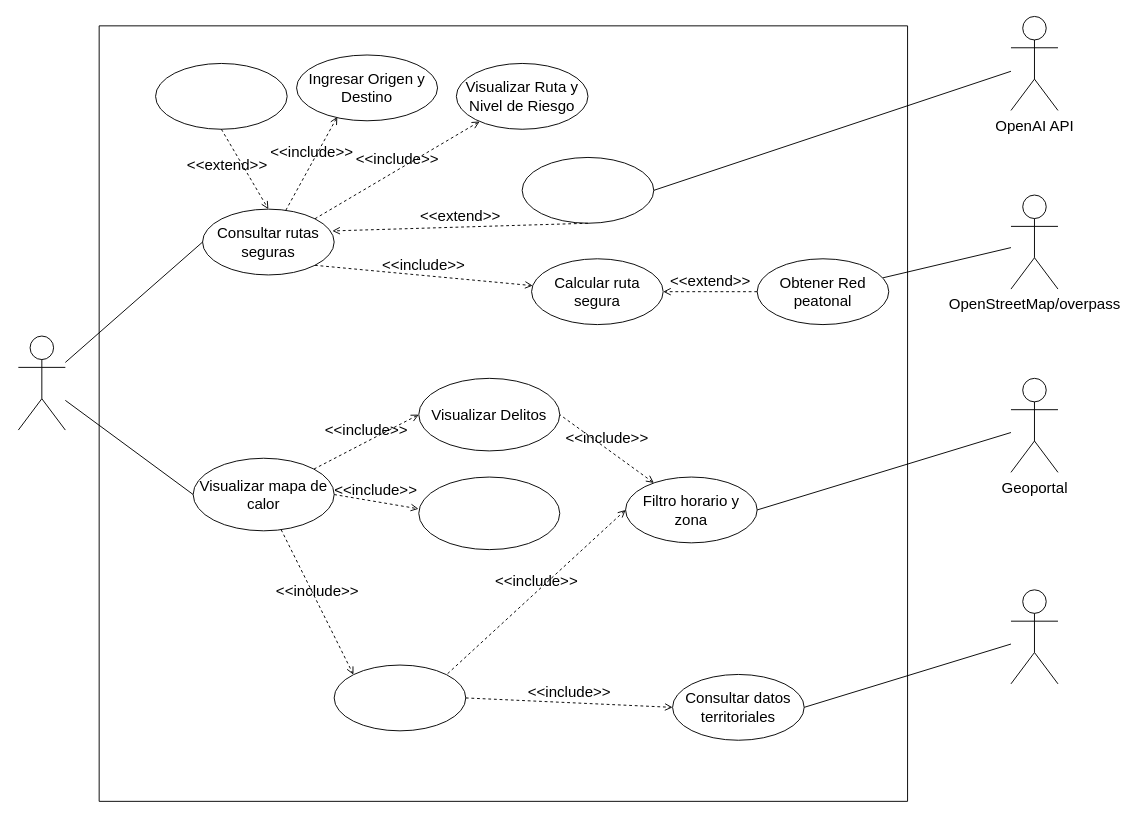
Some shapes in this 1136 by 818 pixel diagram are drawn without their labels. Each missing label, with the centre of its shape:
Compartir ubicacion: pixel 221 96
Interpretacion Rutas: pixel 587 190
SIED Territorial: pixel 1034 636
Usuario: pixel 41 382
Visualizar red peatonal: pixel 489 513
Visualizar zonas de riesgo: pixel 399 697
